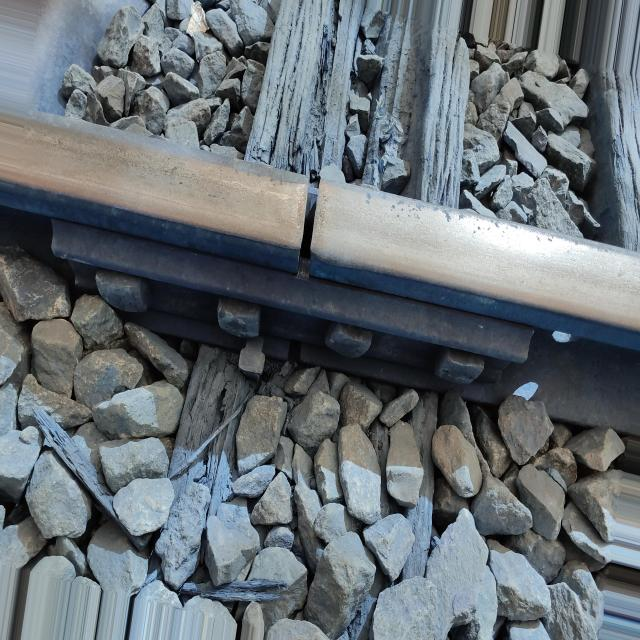Good Joint: (52, 219, 535, 390)
